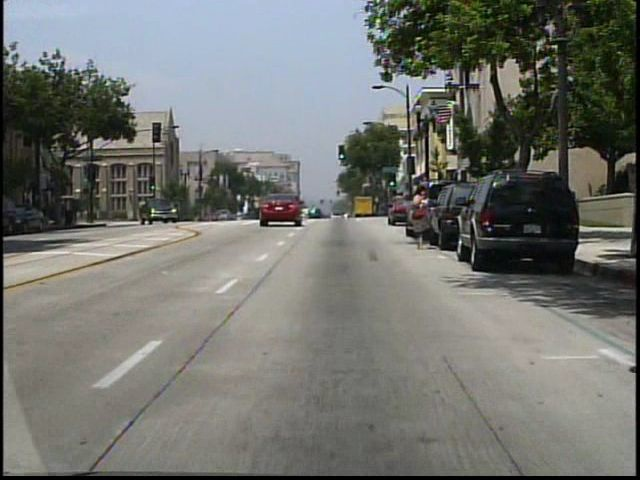person: (409, 182, 439, 249)
